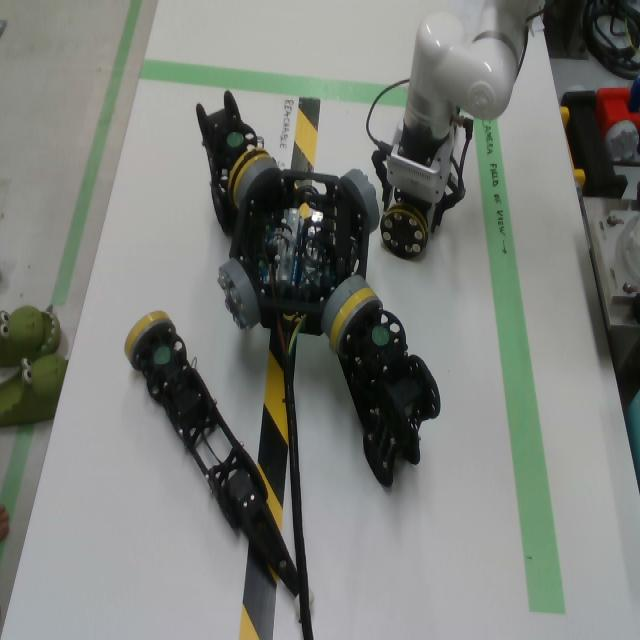body: (229, 171, 370, 336)
body_connector: (320, 275, 369, 339), (217, 259, 259, 331), (341, 169, 380, 233), (235, 157, 279, 209)
gripper: (371, 136, 466, 233)
leg: (124, 311, 301, 620), (330, 288, 441, 488), (196, 91, 269, 239), (380, 187, 432, 260)
leg_connector: (329, 288, 379, 353), (124, 311, 176, 368), (380, 201, 429, 260), (227, 145, 269, 203)
leg_marker: (154, 345, 170, 365), (373, 327, 389, 345), (226, 133, 244, 147)
